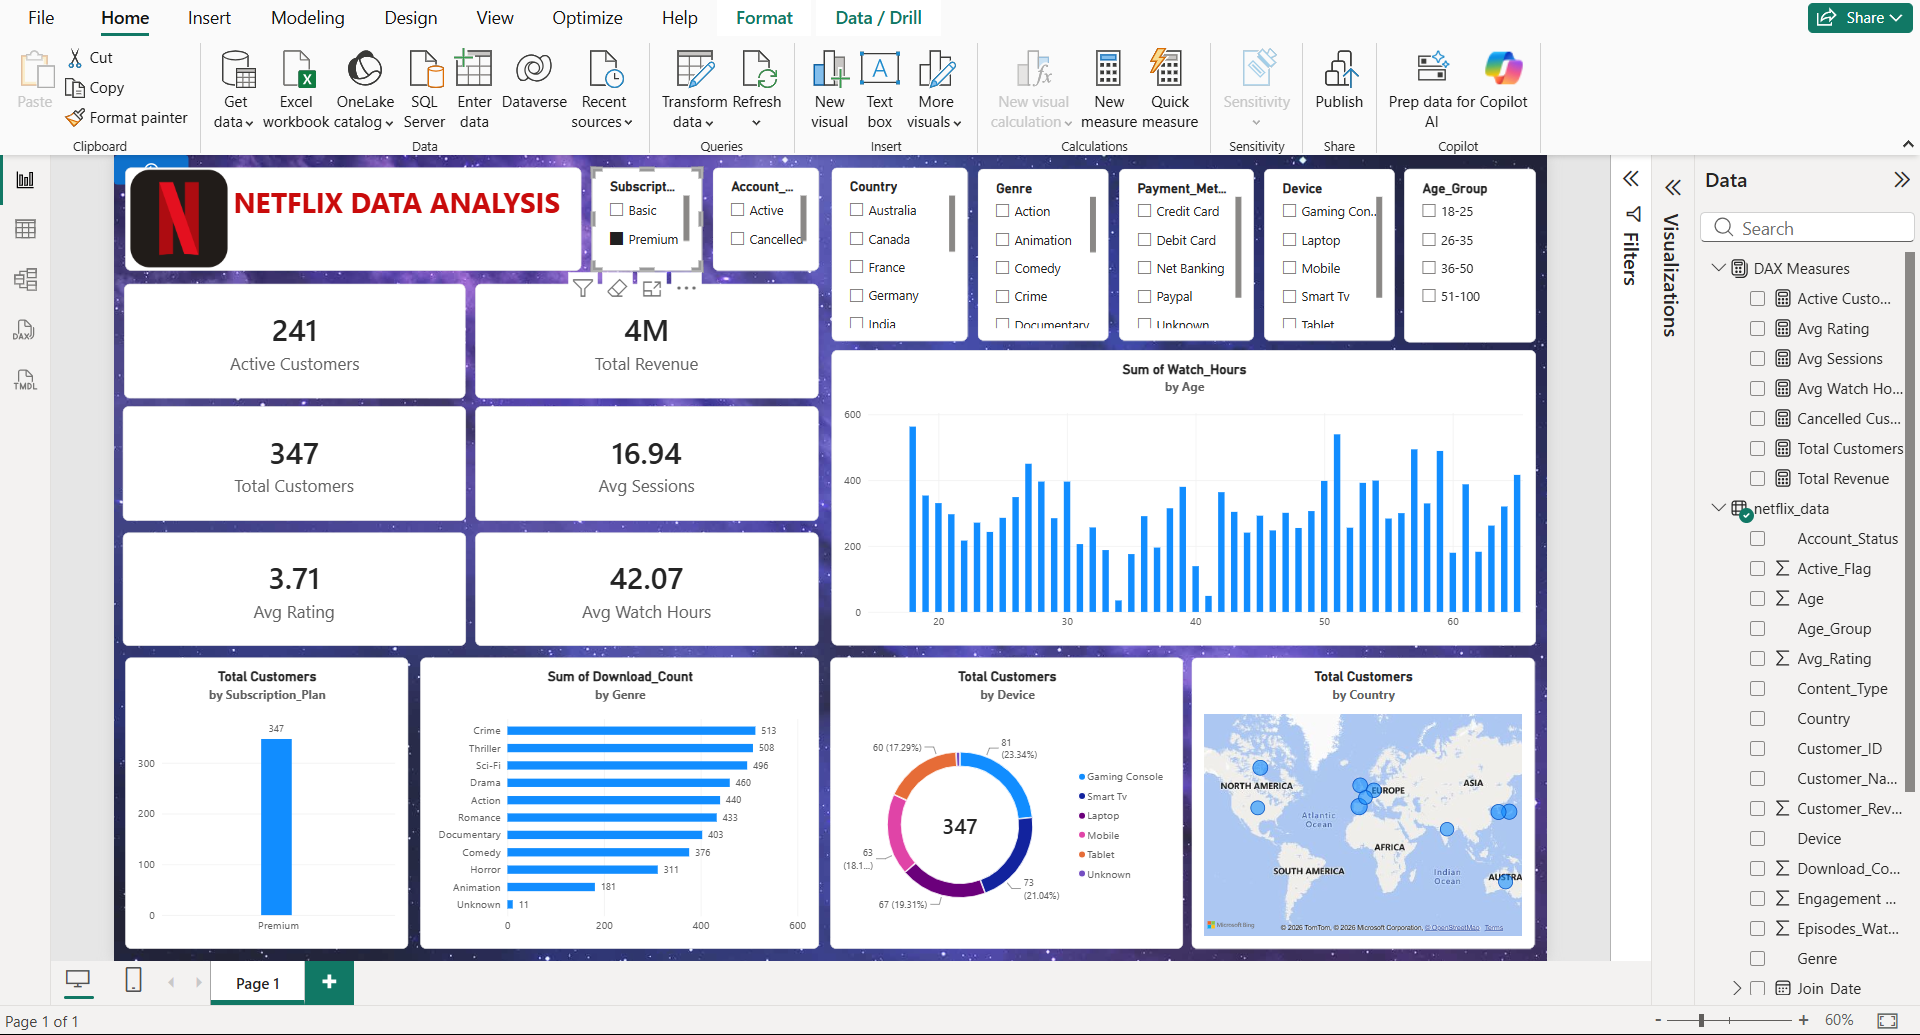

The dashboard page shown, as its layout file describes it:
{"tool":"powerbi","page":{"name":"Page 1","canvas":[1920,1080],"ordinal":0},"visuals":[{"type":"card","fields":{"Values":["DAX Measures.Total Revenue"]},"box":[484.6,173.1,459.6,153.8],"z":0},{"type":"card","fields":{"Values":["DAX Measures.Total Customers"]},"box":[11.5,336.5,459.6,153.8],"z":1000},{"type":"card","fields":{"Values":["DAX Measures.Active Customers"]},"box":[13.5,173.1,457.7,153.8],"z":2000},{"type":"actionButton","box":[0,0,100,40],"z":3000},{"type":"card","fields":{"Values":["DAX Measures.Avg Rating"]},"box":[11.5,505.8,459.6,151.9],"z":4000},{"type":"card","fields":{"Values":["DAX Measures.Avg Watch Hours"]},"box":[484.6,505.8,459.6,151.9],"z":5000},{"type":"clusteredColumnChart","fields":{"Category":["netflix_data.Age"],"Y":["Sum(netflix_data.Watch_Hours)"]},"box":[961.5,261.5,944.2,396.2],"z":6000},{"type":"slicer","fields":{"Values":["netflix_data.Country"]},"box":[961.5,17.3,182.7,232.7],"z":7000},{"type":"slicer","fields":{"Values":["netflix_data.Device"]},"box":[626.9,801.9,242.1,233.1],"z":8000},{"type":"slicer","fields":{"Values":["netflix_data.Subscription_Plan"]},"box":[640.4,17.3,148.1,138.5],"z":9000},{"type":"slicer","fields":{"Values":["netflix_data.Genre"]},"box":[1157.7,19.2,175,230.8],"z":10000},{"type":"slicer","fields":{"Values":["netflix_data.Account_Status"]},"box":[801.9,17.3,142.3,138.5],"z":11000},{"type":"columnChart","fields":{"Category":["netflix_data.Subscription_Plan"],"Y":["DAX Measures.Total Customers"]},"box":[15.4,673.1,378.8,390.4],"z":12000},{"type":"map","fields":{"Category":["netflix_data.Country"],"Size":["DAX Measures.Total Customers"]},"box":[1444.2,673.1,459.6,390.4],"z":13000},{"type":"barChart","fields":{"Category":["netflix_data.Genre"],"Y":["Sum(netflix_data.Download_Count)"]},"box":[409.6,673.1,534.6,390.4],"z":14000},{"type":"donutChart","fields":{"Category":["netflix_data.Device"],"Y":["DAX Measures.Total Customers"]},"box":[959.6,673.1,473.1,390.4],"z":15000},{"type":"slicer","fields":{"Values":["netflix_data.Age_Group"]},"box":[1728.8,19.2,176.9,232.7],"z":16000},{"type":"textbox","box":[15.4,17.3,611.5,138.5],"z":17000},{"type":"card","fields":{"Values":["DAX Measures.Avg Sessions"]},"box":[484.6,336.5,459.6,153.8],"z":18000},{"type":"slicer","fields":{"Values":["netflix_data.Payment_Method"]},"box":[1346.2,19.2,180.8,230.8],"z":19000},{"type":"image","box":[15.4,17.3,144.2,136.5],"z":20000},{"type":"slicer","fields":{"Values":["netflix_data.Device"]},"box":[1540.4,19.2,175,230.8],"z":21000}]}

Visuals, with their boxes on the page's 1920x1080 design canvas (x1, y1, x2, y2). These are canvas units, not pixel positions in the 1920x1035 screenshot, which may show the page scaled, cropped or inside an application window:
card - DAX Measures.Total Revenue: bbox=(485, 173, 944, 327)
card - DAX Measures.Total Customers: bbox=(12, 336, 471, 490)
card - DAX Measures.Active Customers: bbox=(14, 173, 471, 327)
actionButton: bbox=(0, 0, 100, 40)
card - DAX Measures.Avg Rating: bbox=(12, 506, 471, 658)
card - DAX Measures.Avg Watch Hours: bbox=(485, 506, 944, 658)
clusteredColumnChart - netflix_data.Age x Sum(netflix_data.Watch_Hours): bbox=(962, 262, 1906, 658)
slicer - netflix_data.Country: bbox=(962, 17, 1144, 250)
slicer - netflix_data.Device: bbox=(627, 802, 869, 1035)
slicer - netflix_data.Subscription_Plan: bbox=(640, 17, 788, 156)
slicer - netflix_data.Genre: bbox=(1158, 19, 1333, 250)
slicer - netflix_data.Account_Status: bbox=(802, 17, 944, 156)
columnChart - netflix_data.Subscription_Plan x DAX Measures.Total Customers: bbox=(15, 673, 394, 1064)
map - netflix_data.Country x DAX Measures.Total Customers: bbox=(1444, 673, 1904, 1064)
barChart - netflix_data.Genre x Sum(netflix_data.Download_Count): bbox=(410, 673, 944, 1064)
donutChart - netflix_data.Device x DAX Measures.Total Customers: bbox=(960, 673, 1433, 1064)
slicer - netflix_data.Age_Group: bbox=(1729, 19, 1906, 252)
textbox: bbox=(15, 17, 627, 156)
card - DAX Measures.Avg Sessions: bbox=(485, 336, 944, 490)
slicer - netflix_data.Payment_Method: bbox=(1346, 19, 1527, 250)
image: bbox=(15, 17, 160, 154)
slicer - netflix_data.Device: bbox=(1540, 19, 1715, 250)
